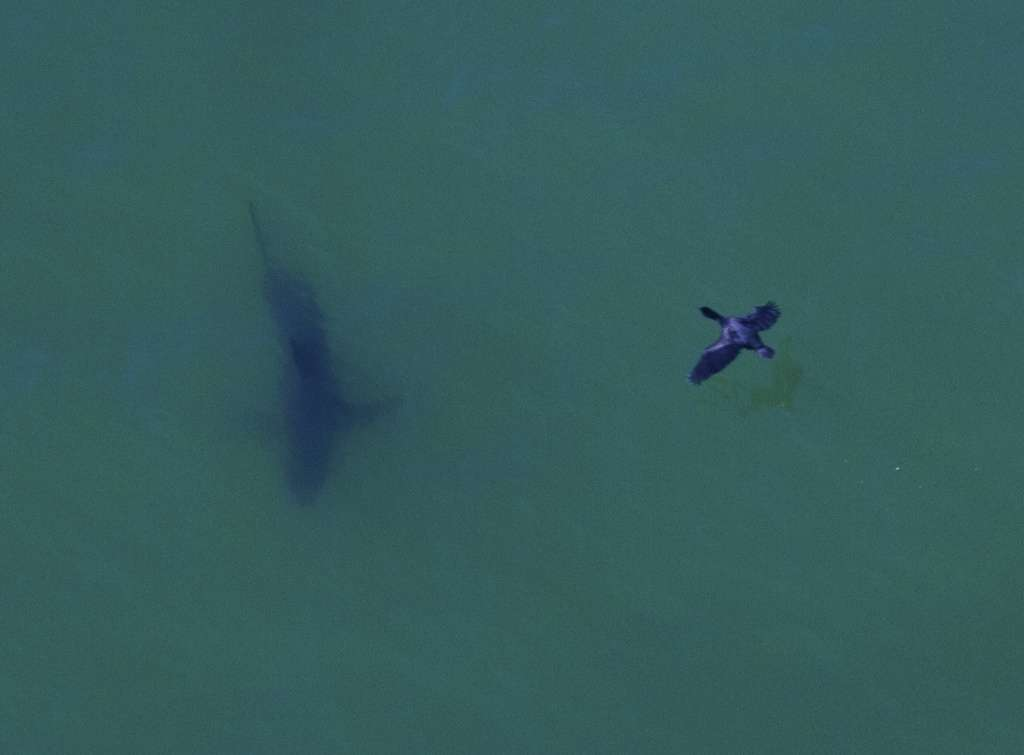bird: (681, 297, 787, 390)
shark: (218, 198, 409, 510)
